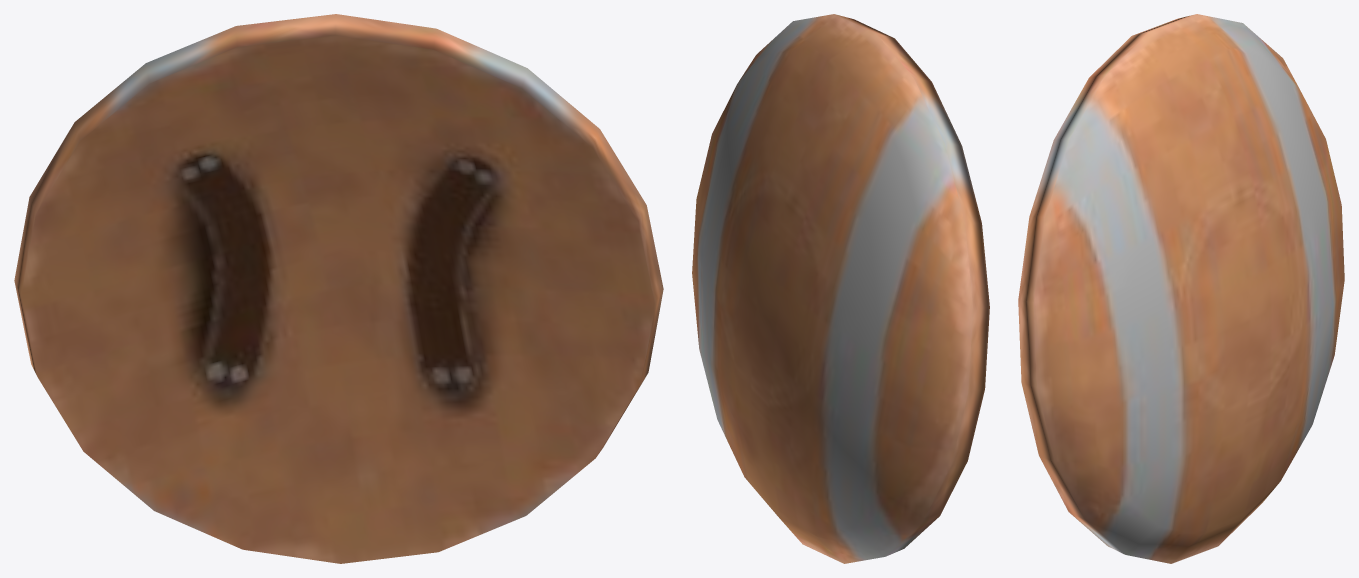
Rendered from shield-coppershields.glb.
The picture shows the model from 3 angles, left to right: view 1: azimuth 30°, elevation 25°; view 2: azimuth 150°, elevation 25°; view 3: azimuth 270°, elevation 25°; orthographic projection. The views are drawn at different scales.
Bounding box in the file's own units: 0.3624 × 0.4177 × 0.2494.
1 material, 1 textured.
